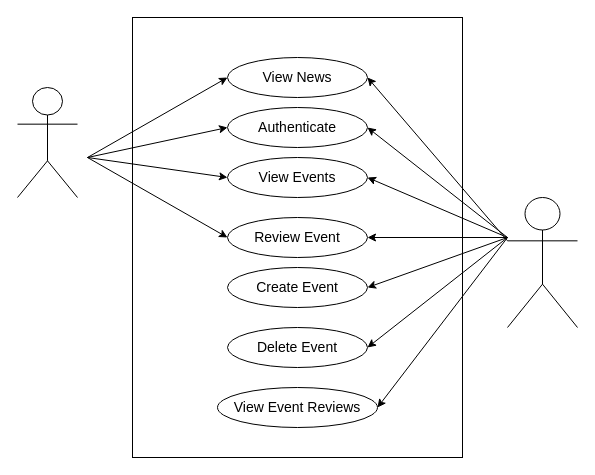
The diagram is 595 pixels wide and 475 high, and some of its shapes have lost their labels. Each missing label, with the box of its shape:
Admin: (506, 196, 578, 328)
User: (16, 86, 78, 198)
